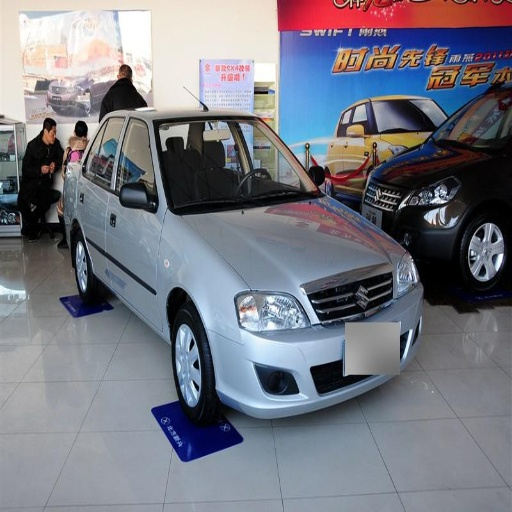front_bumper: (209, 271, 420, 419)
front_glass: (154, 120, 320, 213), (433, 97, 494, 145)
front_right_door: (109, 117, 160, 325)
front_right_light: (234, 288, 307, 335)
hood: (180, 197, 402, 320), (416, 143, 480, 172)
